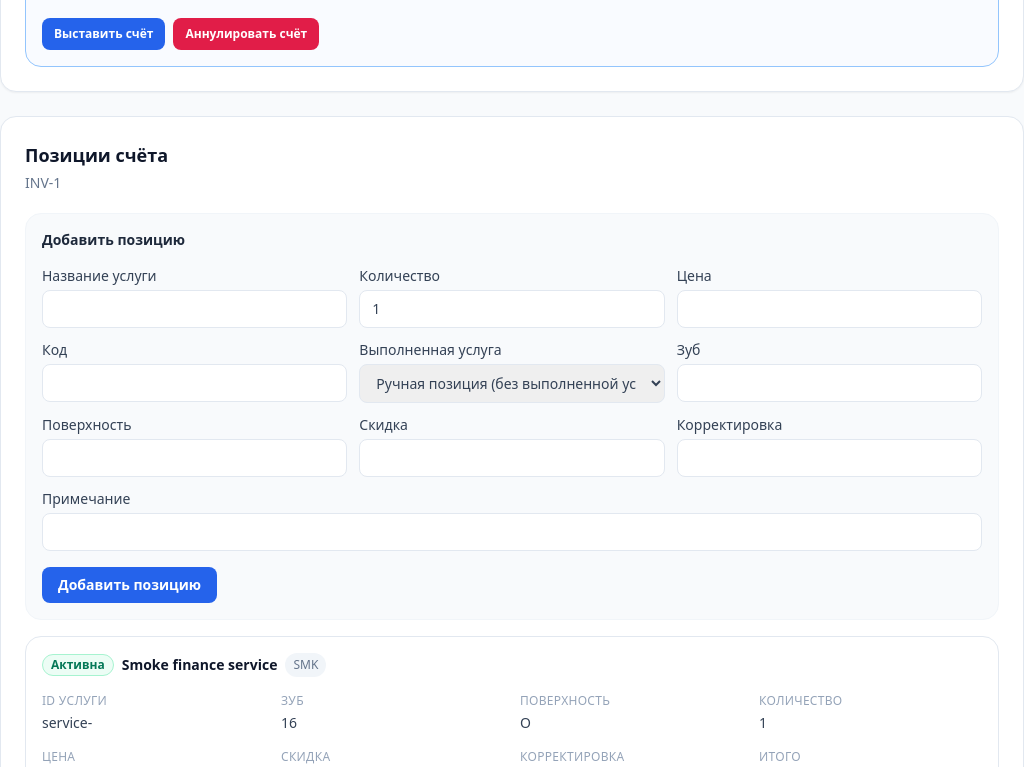
Scenario: PatientFinancePanel › keeps unavailable services disabled and fills a selectable completed service while preserving manual
(page scrolled)
Select "Selectable service" in the dropdown with test id "finance-completed-service-select" at [512, 384], box x1=359 y1=364 x2=665 y2=403
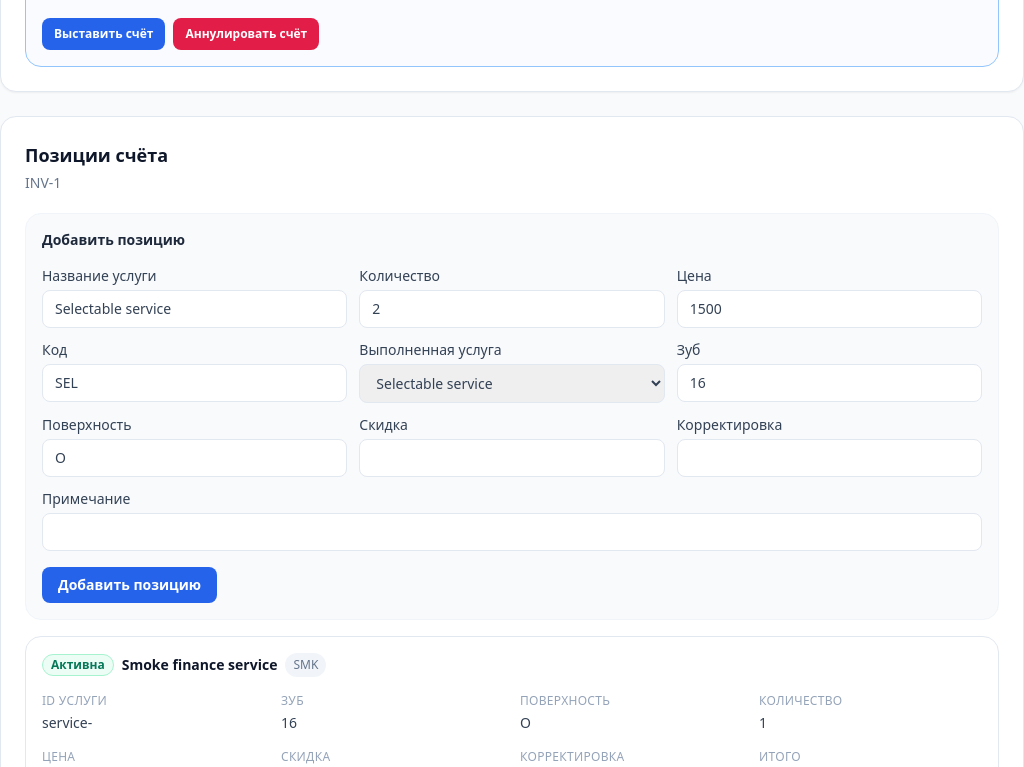
Check: the field with test id "finance-item-service-name" holds "Selectable service", box x1=42 y1=290 x2=347 y2=328
Check: the field with test id "finance-item-service-code" holds "SEL", box x1=42 y1=364 x2=347 y2=402
Check: the field with test id "finance-item-tooth-number" holds "16", box x1=677 y1=364 x2=982 y2=402
